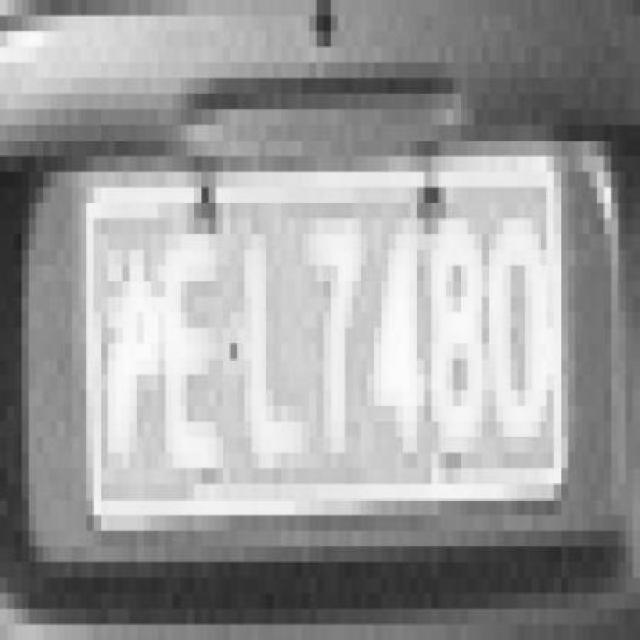licenseplate: (70, 120, 598, 583)
